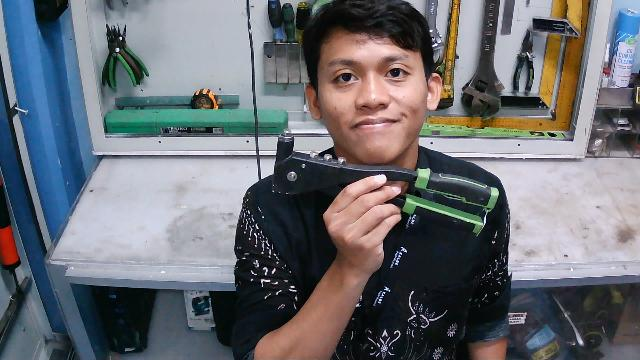tang_rivet: (272, 121, 501, 239)
